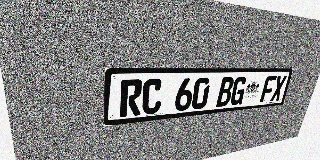0: (191, 77, 211, 110)
6: (174, 78, 195, 111)
B: (216, 77, 235, 107)
C: (141, 79, 163, 115)
F: (259, 76, 277, 102)
G: (229, 77, 248, 106)
R: (120, 79, 143, 117)
X: (270, 76, 287, 101)
